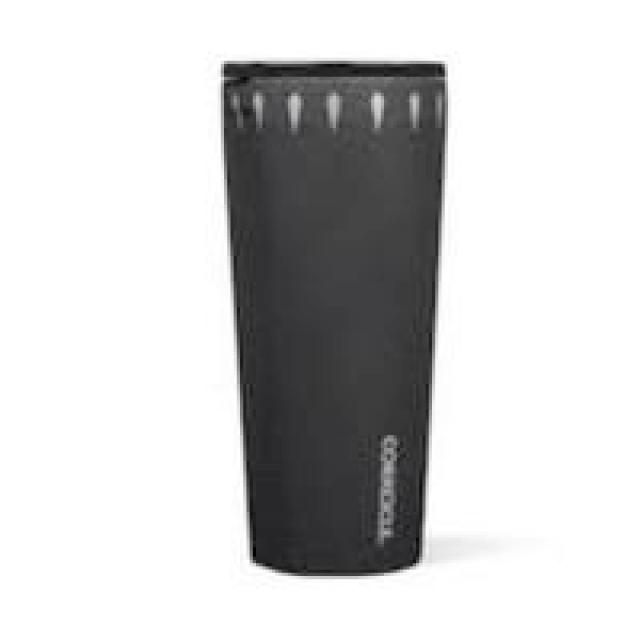bottle: (221, 61, 448, 576)
